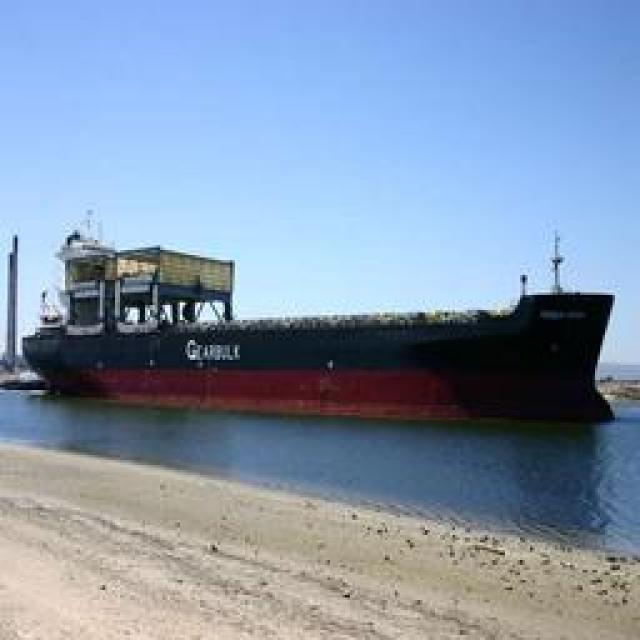CIV_Ship: (34, 237, 614, 415)
